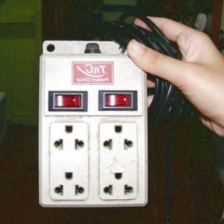three_eye_plug: (35, 47, 154, 208)
